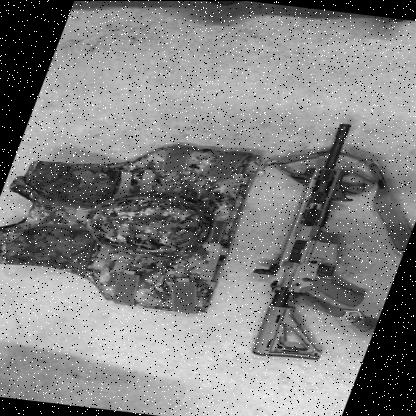rifle: (230, 118, 416, 371)
